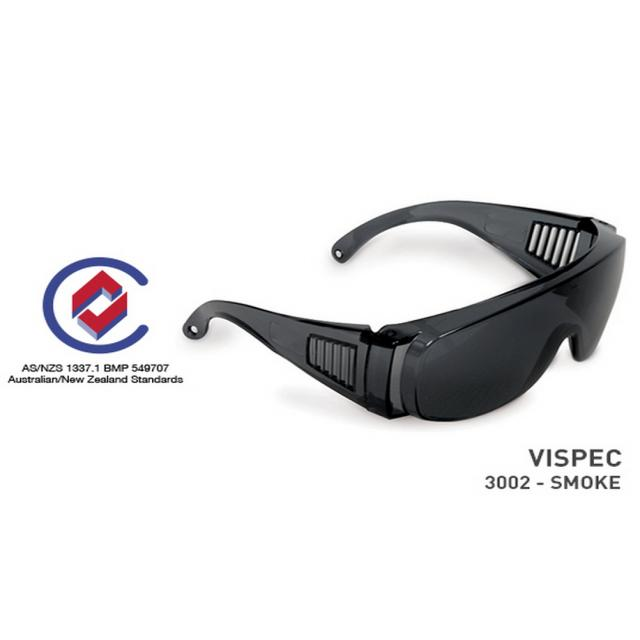Protective Glasses: (178, 164, 640, 446)
